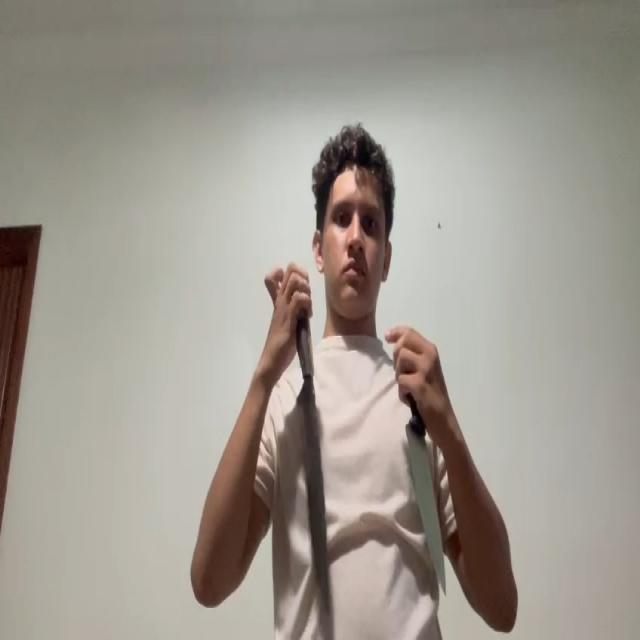knife: (297, 375, 329, 609), (406, 418, 448, 592)
